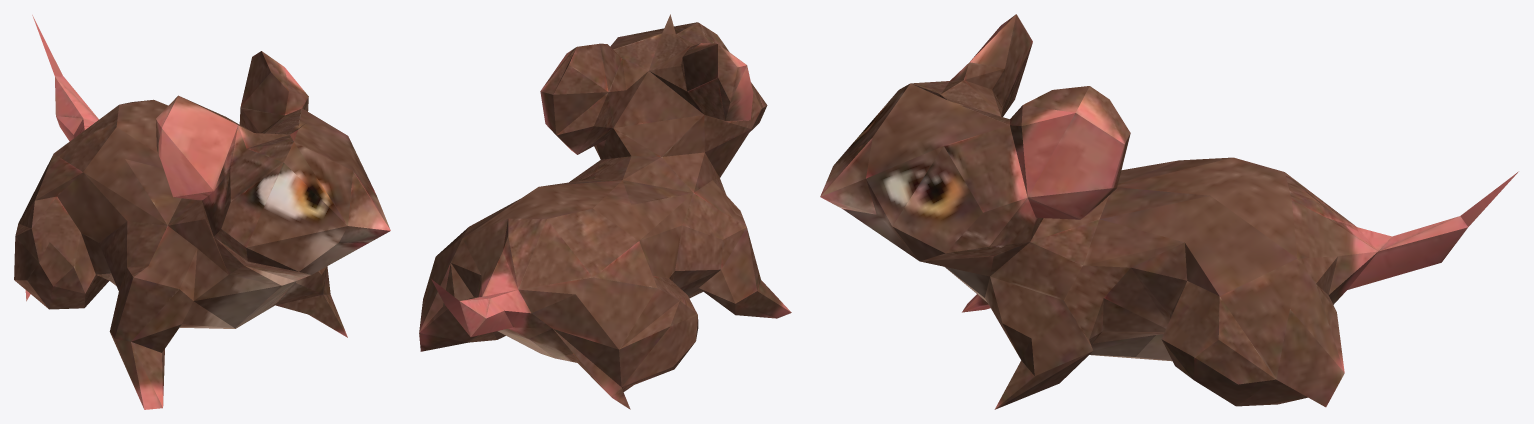
The model's file is rat-lod.glb.
3 renders of one model, left to right at view 1: azimuth 30°, elevation 25°; view 2: azimuth 150°, elevation 25°; view 3: azimuth 270°, elevation 25°, orthographic. The views are drawn at different scales.
Parts seen in each view (by area): view 1: output_unwrapped; view 2: output_unwrapped; view 3: output_unwrapped.
Part boxes in pixels (box(x1,y1,x2,y2)): output_unwrapped: box(14, 15, 390, 409); output_unwrapped: box(419, 14, 791, 409); output_unwrapped: box(820, 14, 1518, 409).
Size of the model in its own units: 0.1902 by 0.2 by 0.392.
Materials: 1 (1 with a texture image).
